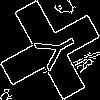Y: (25, 25, 82, 77)
